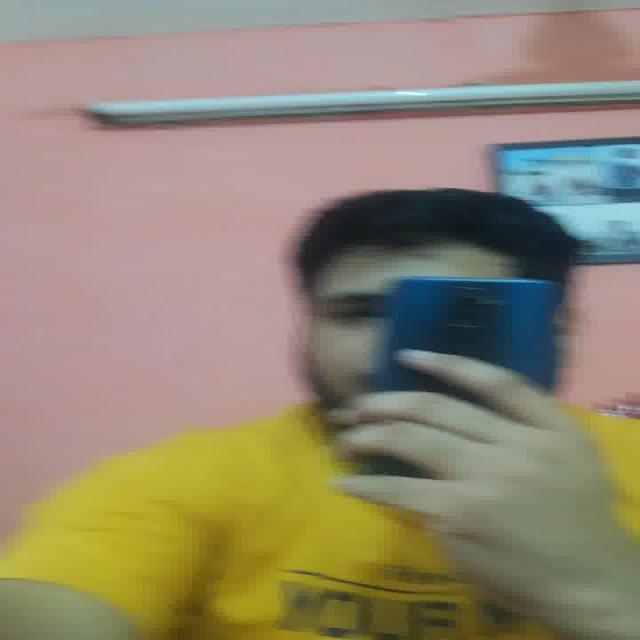Phone: (380, 275, 564, 385)
